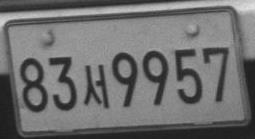3: (49, 56, 77, 110)
5: (174, 47, 202, 104)
7: (203, 46, 229, 102)
8: (18, 56, 48, 113)
9: (141, 49, 169, 106), (111, 50, 138, 107)
서: (82, 64, 109, 108)
